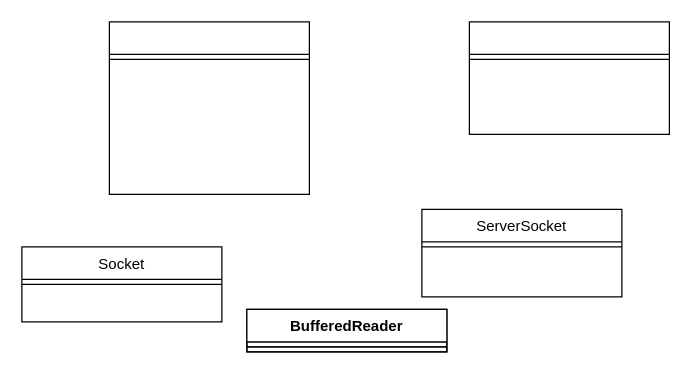
Image size: 691x374. Some labels were removed from this diagram. The shapes that lost their labels are listed below. From the top down, each one's centre as x and y in pixels, then its label:
At point (568, 77): "Address".
At point (208, 107): "Client".
